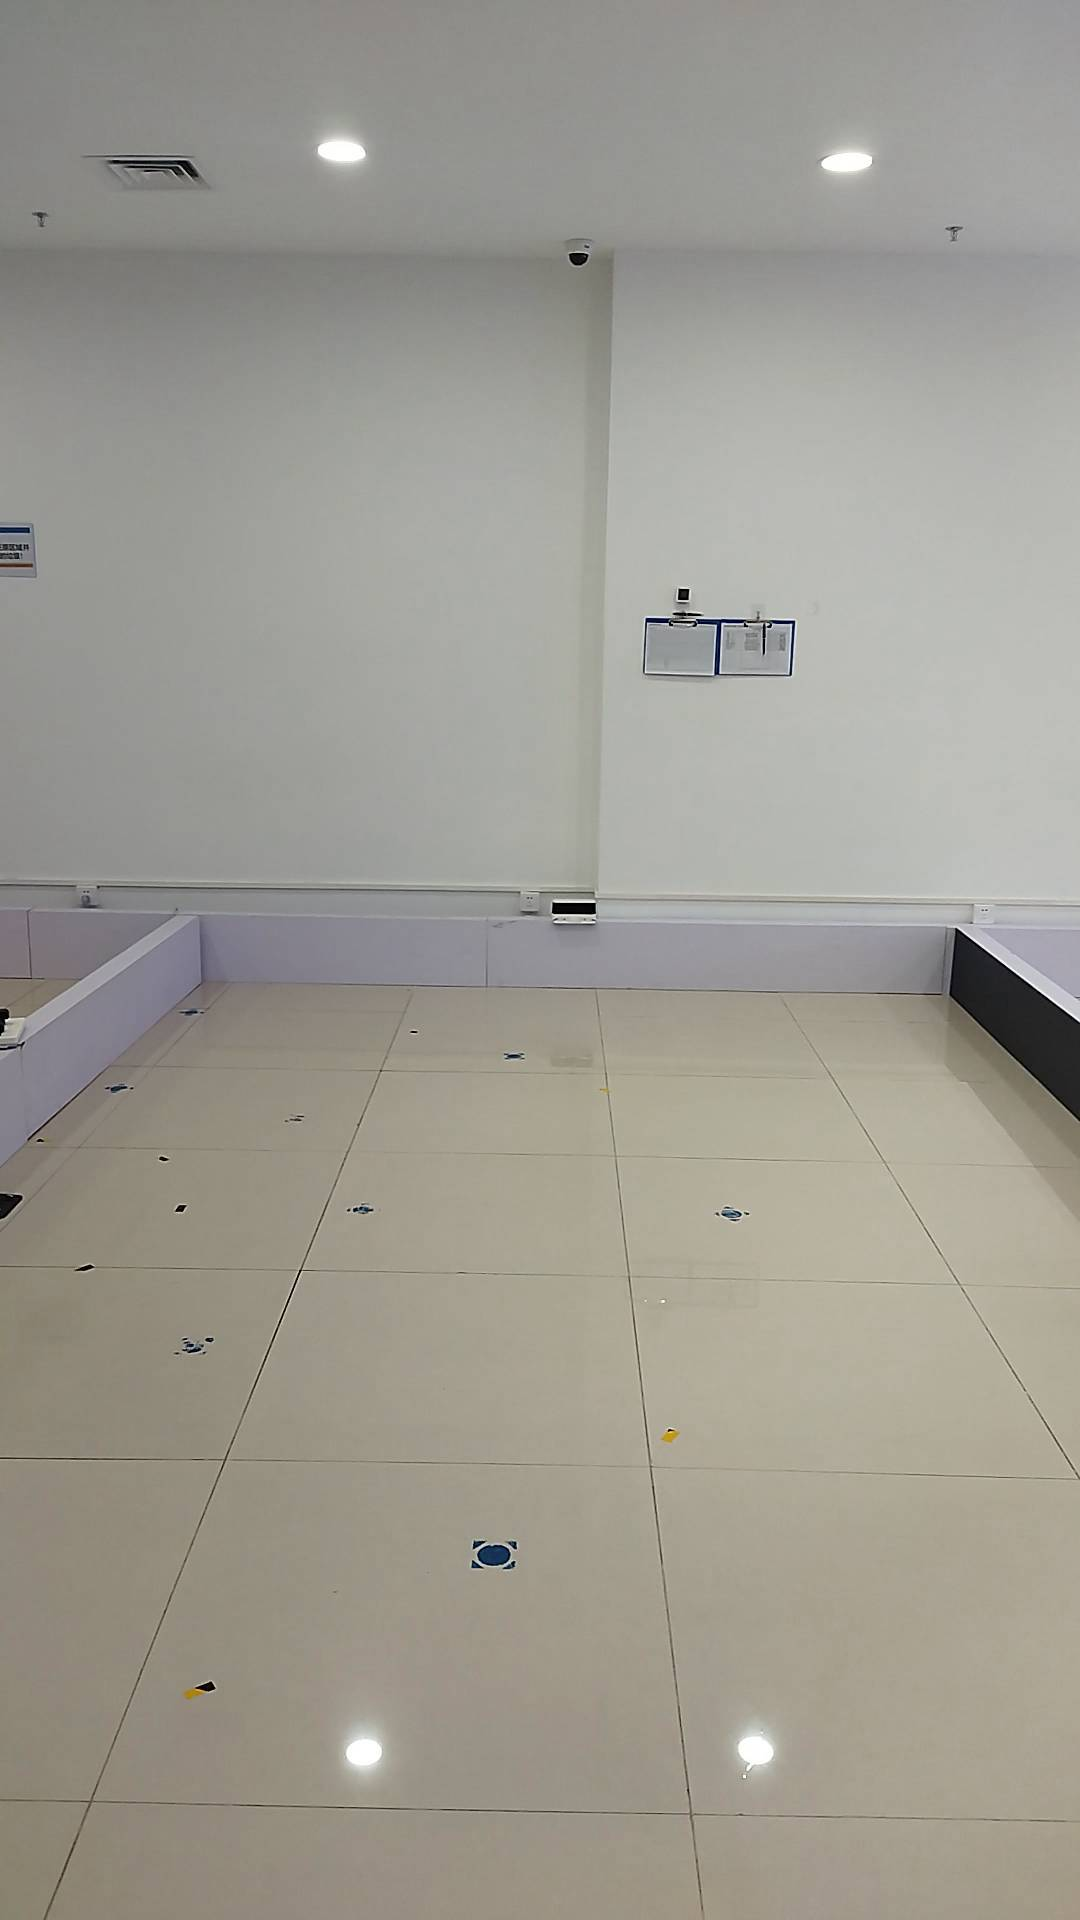recharge seat: (543, 902, 609, 928)
